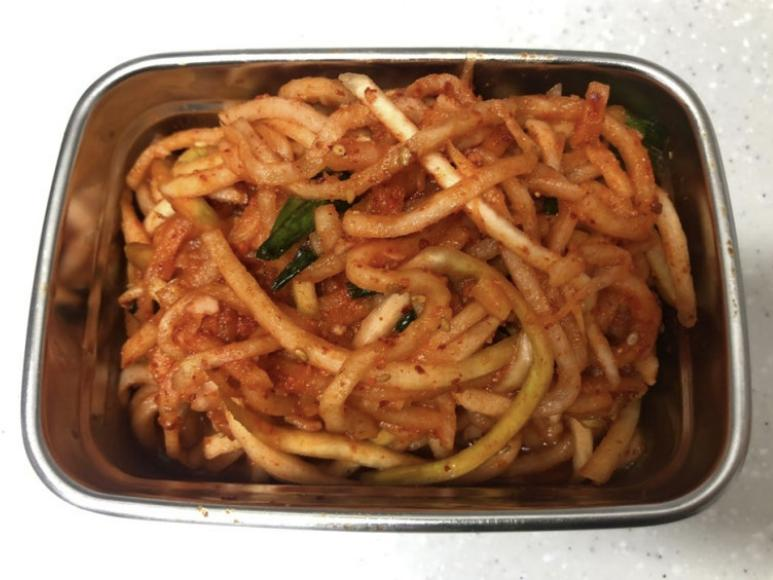Lunch Box: (21, 49, 749, 531)
